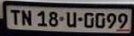character: (9, 8, 20, 26), (65, 10, 76, 28), (36, 9, 47, 26), (94, 11, 105, 28), (48, 10, 58, 27), (117, 12, 127, 29), (21, 9, 31, 25), (83, 12, 93, 27), (106, 12, 115, 28)
